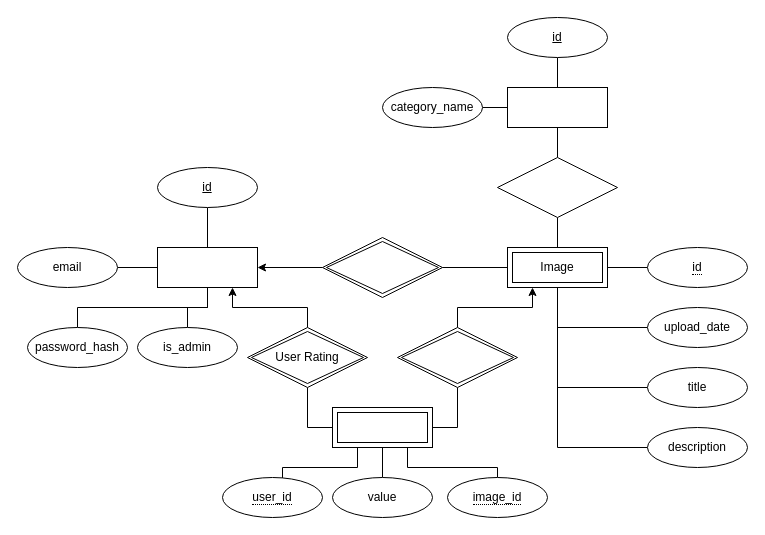
Image size: 765x535. Some labels were removed from this diagram. The shapes that lost their labels are listed below. From the top down, each one's centre as x and y in pixels, then its label:
At point (557, 107): "Category".
At point (557, 187): "Image Category".
At point (207, 267): "User".
At point (382, 267): "Images of User".
At point (457, 357): "Image Rating".
At point (382, 427): "Rating".
